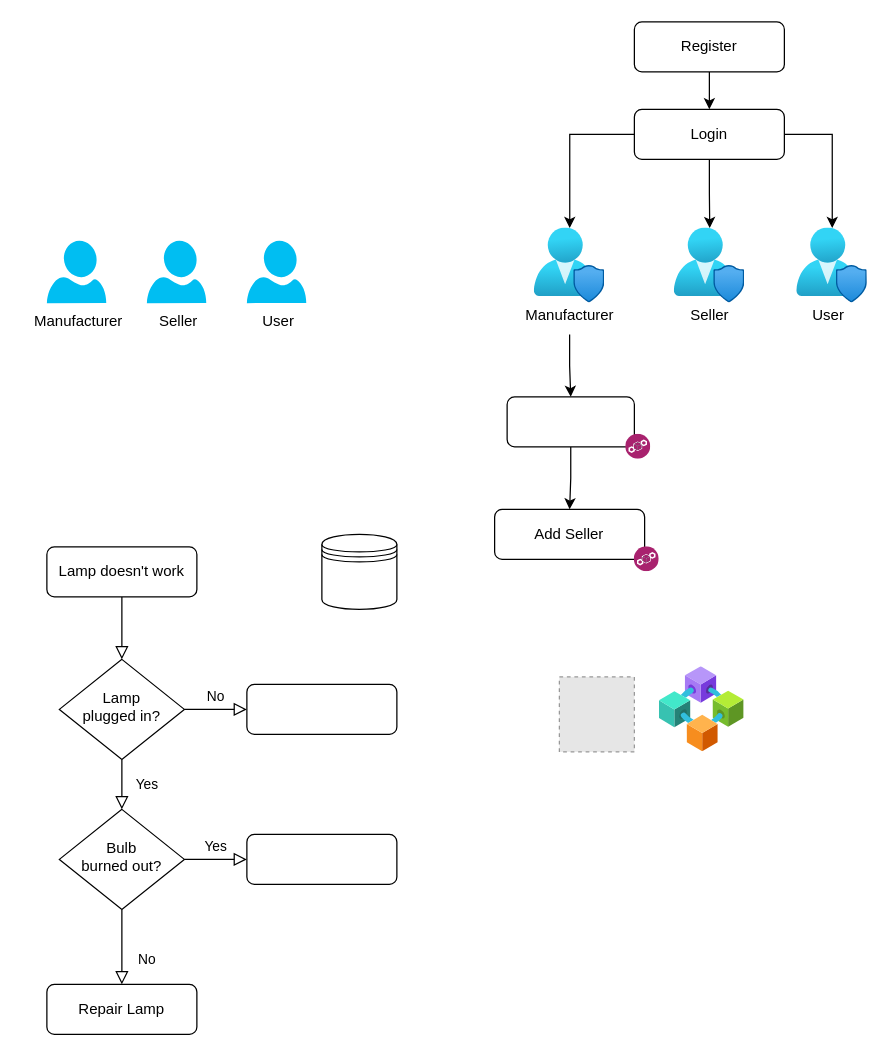
Image size: 889x1056. Some labels were removed from this diagram. Grey dashed boxes stand in for pictures. The shapes that lost their labels are listed below. From the top down, each one's box as (x1, y1, x2, y2) in pixels, then its label:
(506, 396, 634, 447): Add Product
(246, 683, 397, 734): Plug in lamp
(246, 833, 397, 884): Replace Bulb
